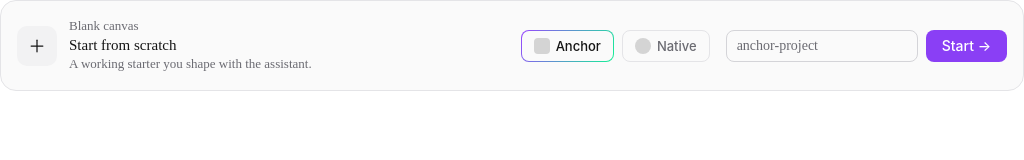
Test: refuses an invalid name and makes nothing until it is edited
The width and height of the screenshot is (1024, 160).
Step 1. Type "a (b)" into the field named "Project name" → [822, 46], box [726,30,918,62]
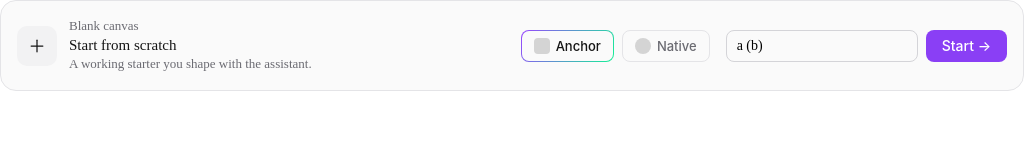
Step 2. Click the button "Start →" → [966, 46], box [926,30,1007,62]
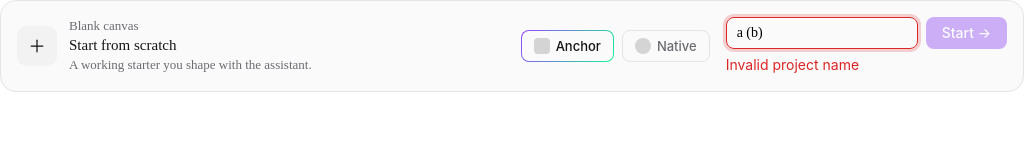
Expected: the message reads "Invalid project name", [726,56,859,73]
Expected: the button "Start →" is disabled, [926,17,1007,49]
Step 3. Replace the text in the field named "Project name" with "ab" → [822, 33], box [726,17,918,49]
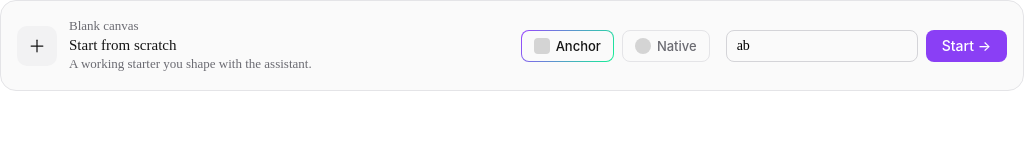
Expected: the message "Invalid project name" is gone
Expected: the button "Start →" is enabled, [926,30,1007,62]
